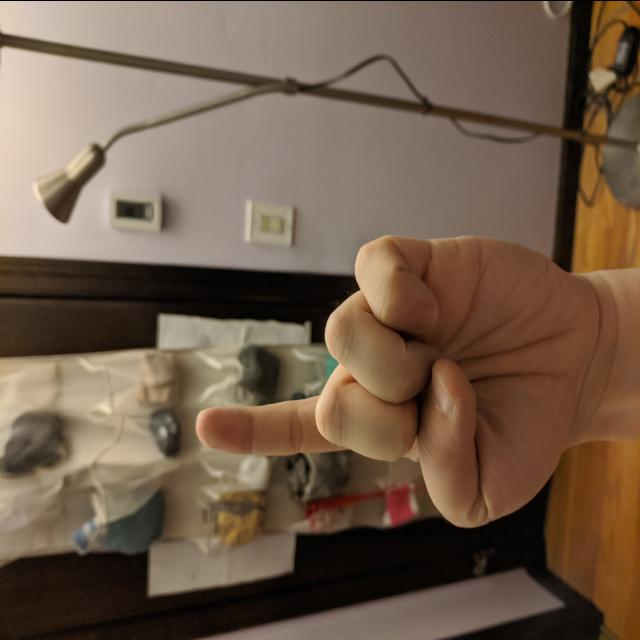D: (191, 226, 603, 532)
